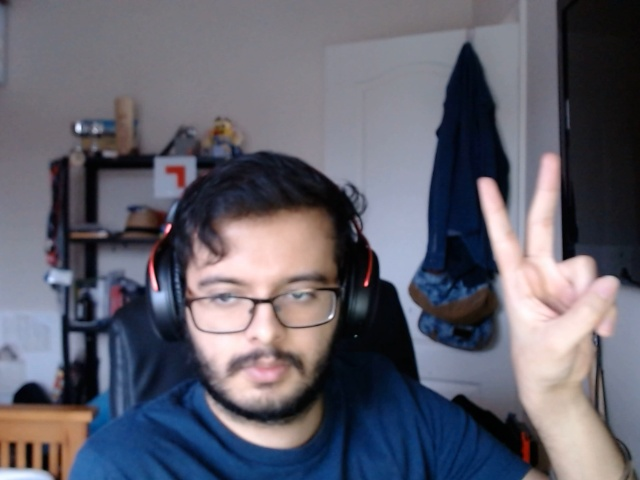Peace: (474, 145, 635, 404)
